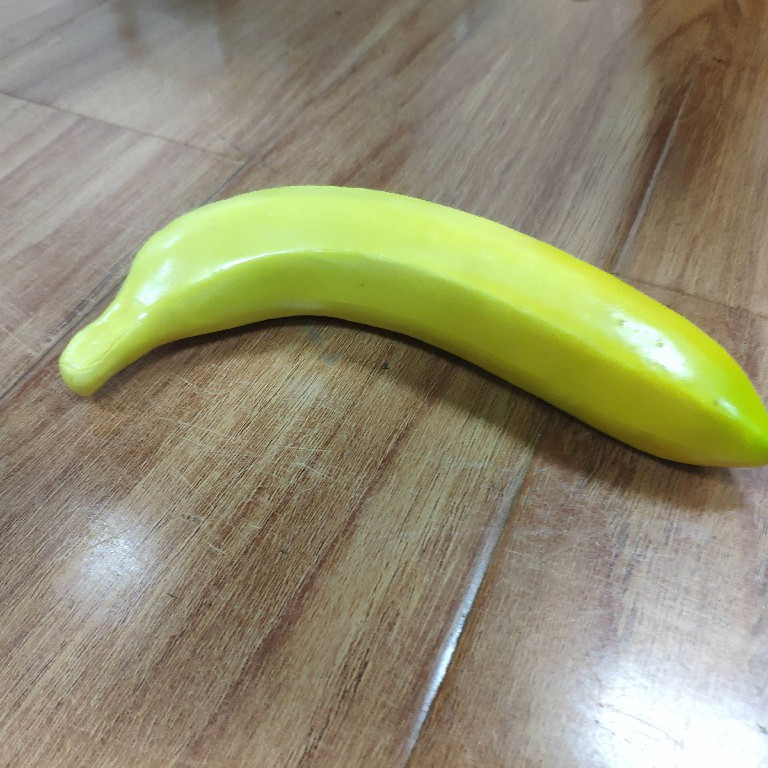fruit_banana: (51, 176, 768, 476)
